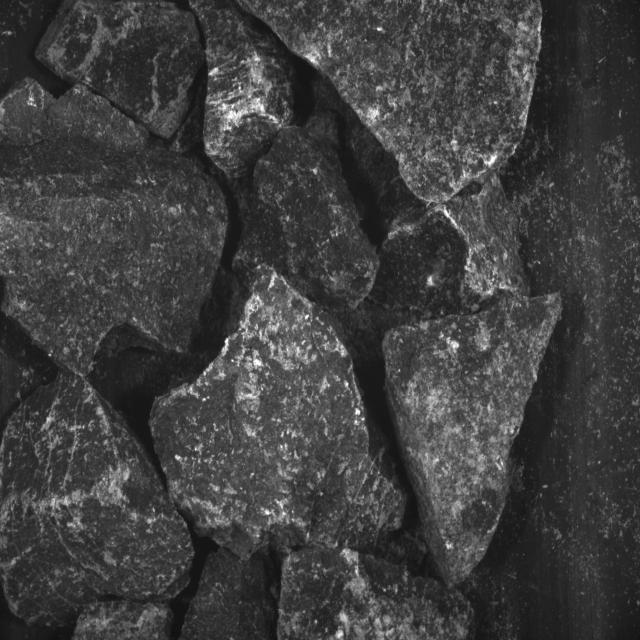Stones: (151, 270, 406, 558), (1, 80, 229, 374), (244, 1, 542, 204), (384, 294, 562, 586), (1, 373, 195, 626), (235, 128, 380, 309), (36, 1, 205, 140), (372, 173, 530, 319), (191, 1, 295, 180), (279, 550, 475, 640), (181, 550, 245, 640), (74, 602, 175, 640)
